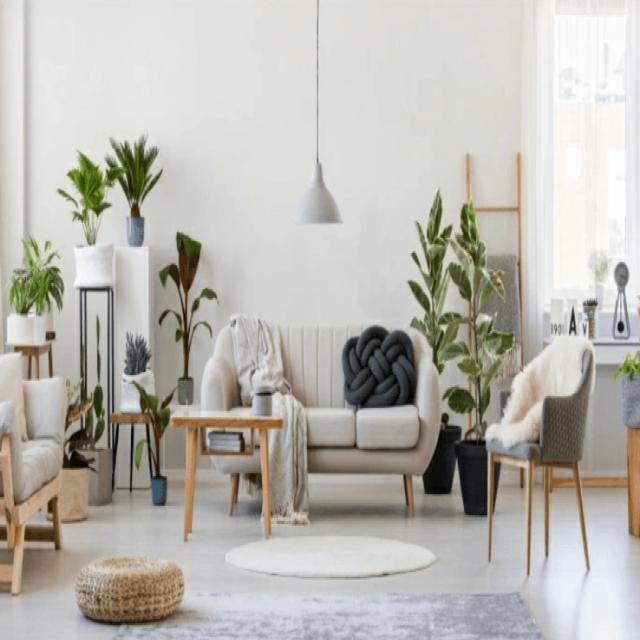modern chair: (480, 330, 599, 578)
modern sofa: (202, 311, 444, 525)
